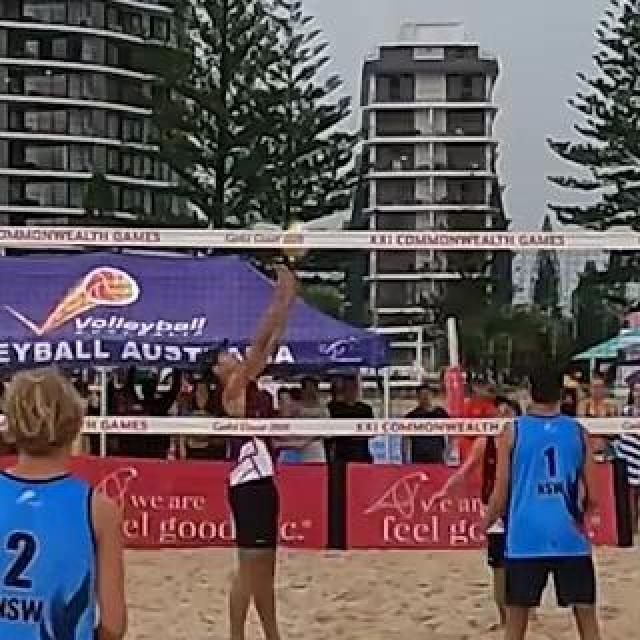volleyball: (275, 218, 313, 258)
